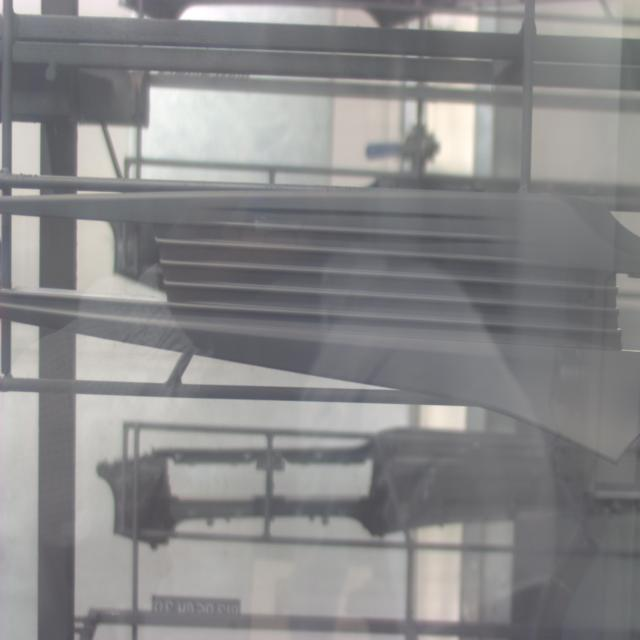Primered: (1, 189, 640, 465)
